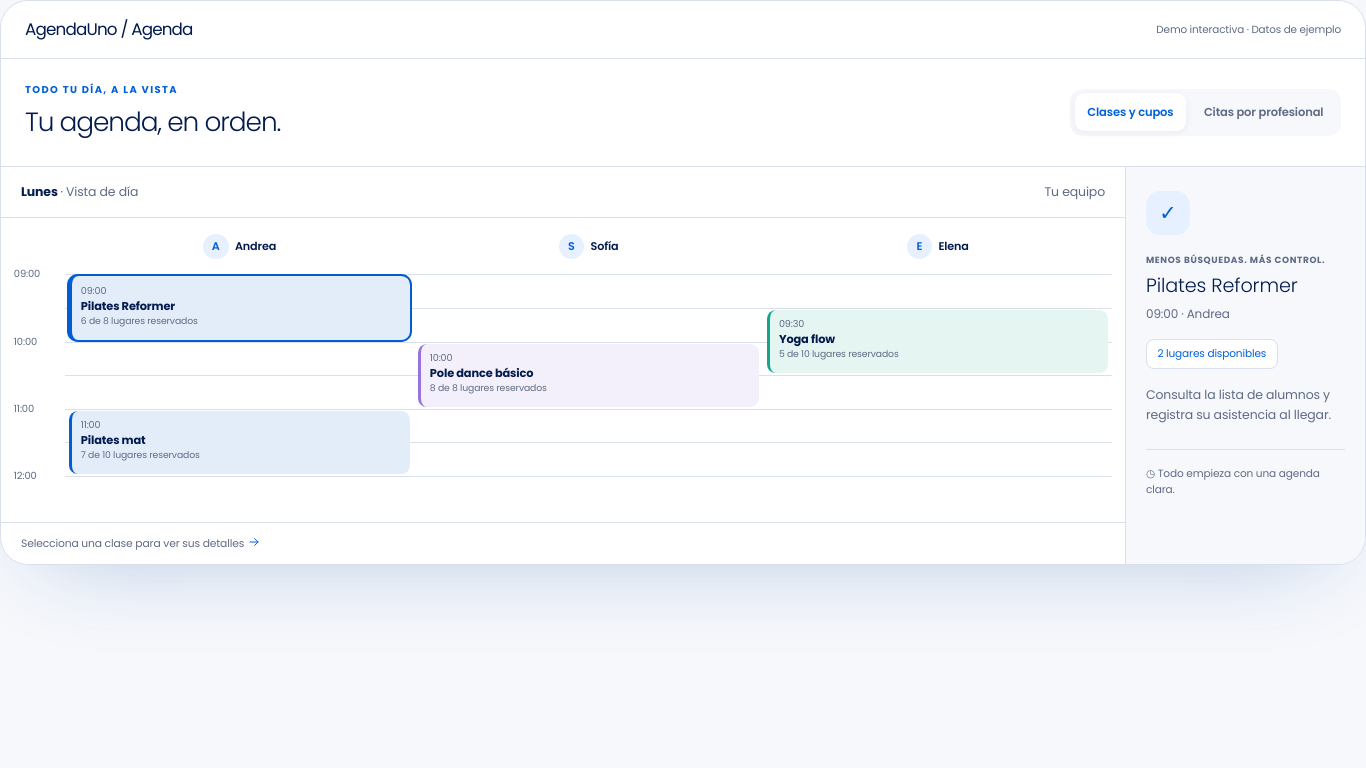
demo de agenda › cambia a citas por profesional y reinicia la selección
The width and height of the screenshot is (1366, 768).
Click the button with class "demo-evento" that starts with "Yoga flow".
click(807, 339)  # box left=767, top=310, right=1108, bottom=373
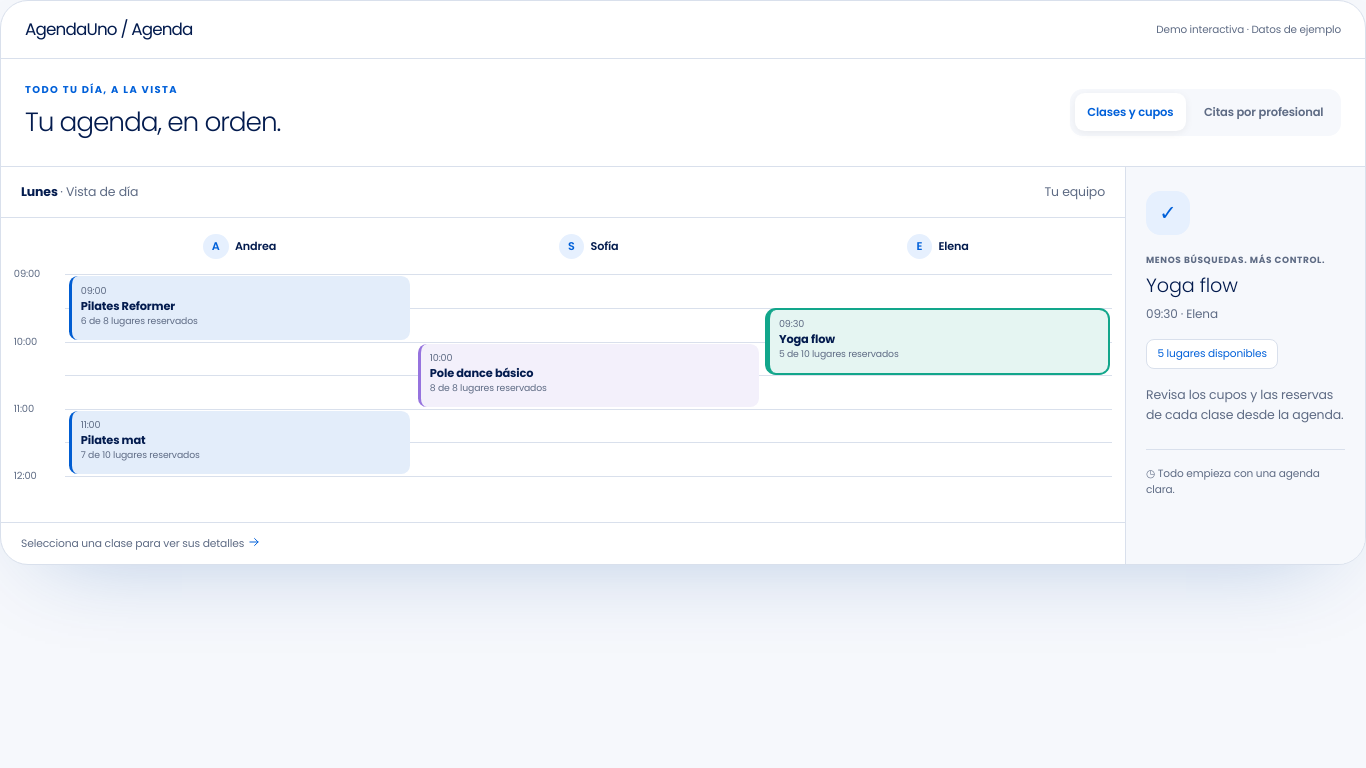
Click the button "Citas por profesional".
click(1264, 112)  # box left=1191, top=93, right=1336, bottom=131
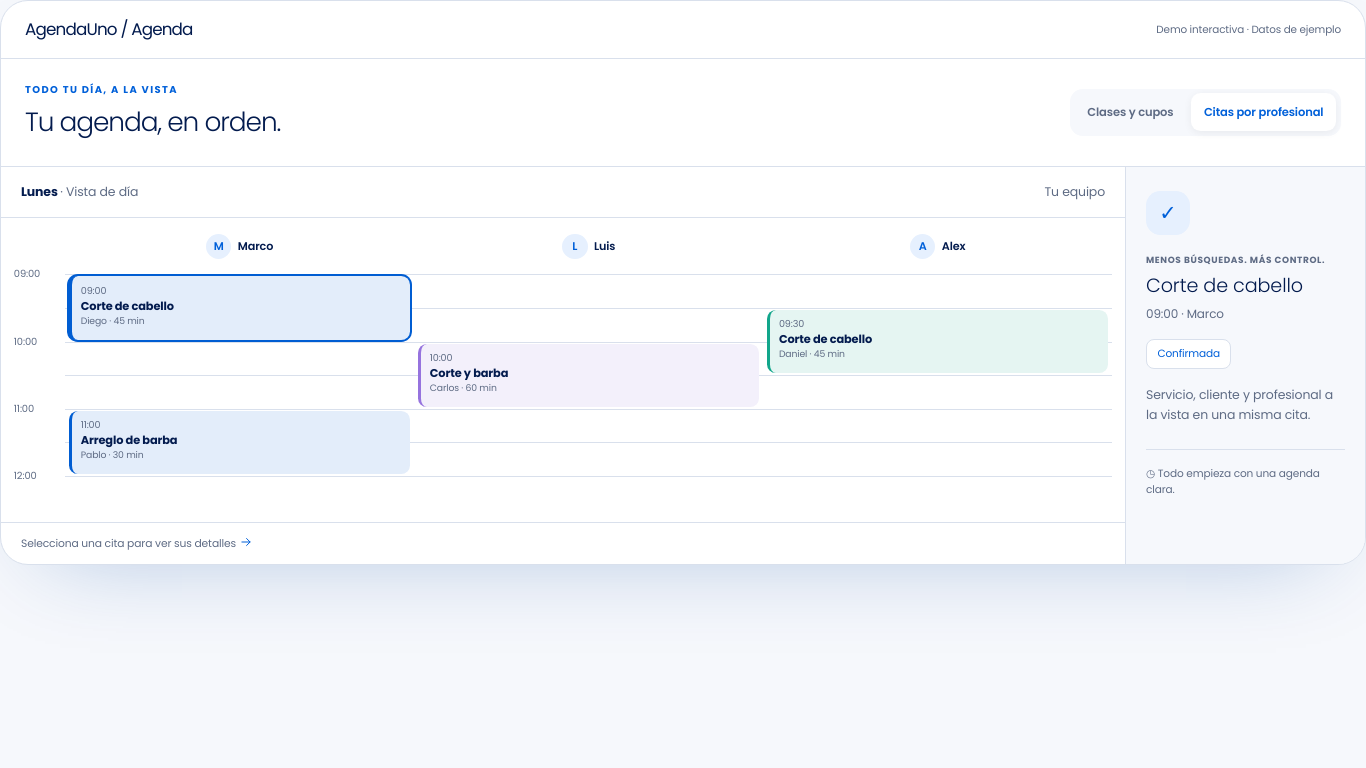
Check: the heading "Corte de cabello" is shown, box left=1146, top=272, right=1303, bottom=299
Check: the text with class "demo-profesional" shows "Marco", box left=1146, top=305, right=1224, bottom=322
Check: the elements with class "demo-persona" read "MMarco", "LLuis", "AAlex", in this order, box left=206, top=234, right=273, bottom=259; left=562, top=234, right=615, bottom=259; left=910, top=234, right=965, bottom=259
